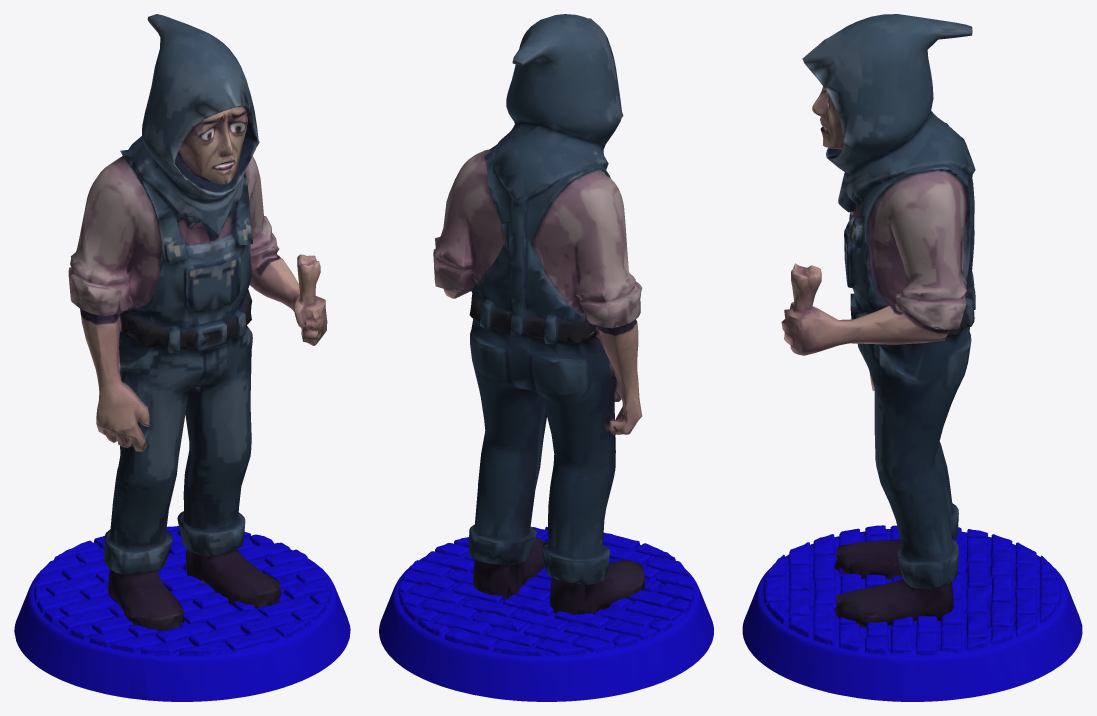
Rendered from janitor_base_apagado.glb.
3 views of the same model, side by side, from view 1: azimuth 30°, elevation 25°; view 2: azimuth 150°, elevation 25°; view 3: azimuth 270°, elevation 25° (orthographic).
Visible parts, largest first — view 1: mesh_node, Object_3.002; view 2: mesh_node, Object_3.002; view 3: mesh_node, Object_3.002.
Part boxes in pixels (box(x1,y1,x2,y2)): mesh_node: box(68, 14, 327, 631); Object_3.002: box(14, 526, 350, 701); mesh_node: box(433, 14, 645, 614); Object_3.002: box(379, 526, 713, 701); mesh_node: box(781, 14, 975, 627); Object_3.002: box(742, 525, 1082, 701).
Bounding box in the file's own units: 0.4184 × 0.8321 × 0.4183.
2 materials, 1 textured.
